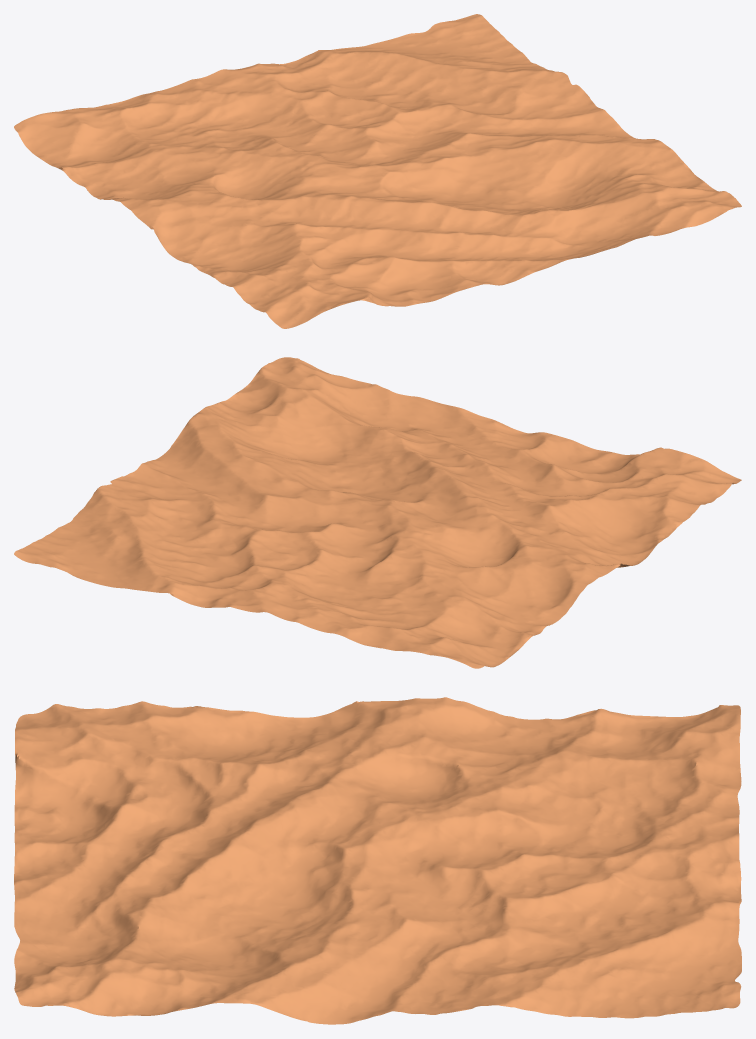
The model's file is arrakis.glb.
The picture shows the model from 3 angles, top to bottom: view 1: azimuth 30°, elevation 25°; view 2: azimuth 150°, elevation 25°; view 3: azimuth 270°, elevation 25°; orthographic projection. The views are drawn at different scales.
Parts seen in each view (by area): view 1: Object_2; view 2: Object_2; view 3: Object_2.
Part boxes in pixels (<box>): Object_2: <box>14,14,741,328</box>; Object_2: <box>14,357,741,668</box>; Object_2: <box>14,697,741,1024</box>.
Bounding box in the file's own units: 203 × 10.47 × 203.
1 material, 1 textured.
